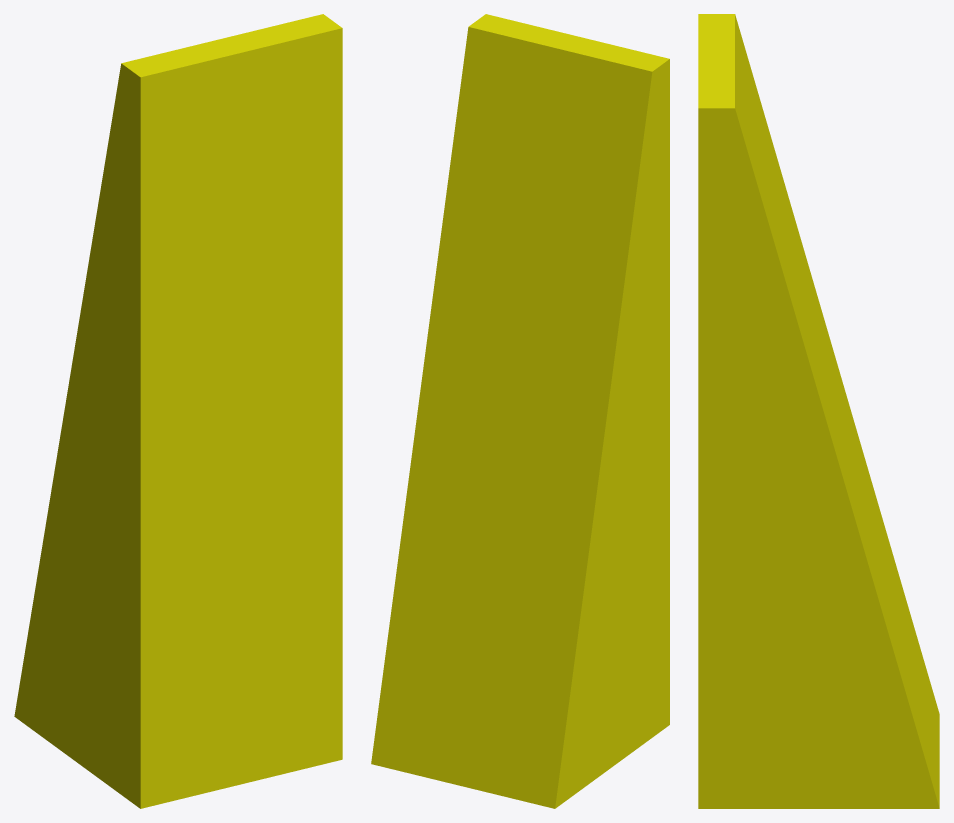
The model's file is gripper.dae.
The picture shows the model from 3 angles, left to right: view 1: azimuth 30°, elevation 25°; view 2: azimuth 150°, elevation 25°; view 3: azimuth 270°, elevation 25°; orthographic projection. The views are drawn at different scales.
Parts seen in each view (by area): view 1: gripper; view 2: gripper; view 3: gripper.
Part boxes in pixels (left/top/right/bottom): gripper: left=14, top=14, right=342, bottom=808; gripper: left=371, top=14, right=669, bottom=808; gripper: left=698, top=14, right=939, bottom=808.
Size of the model in its own units: 37 by 40 by 128.
